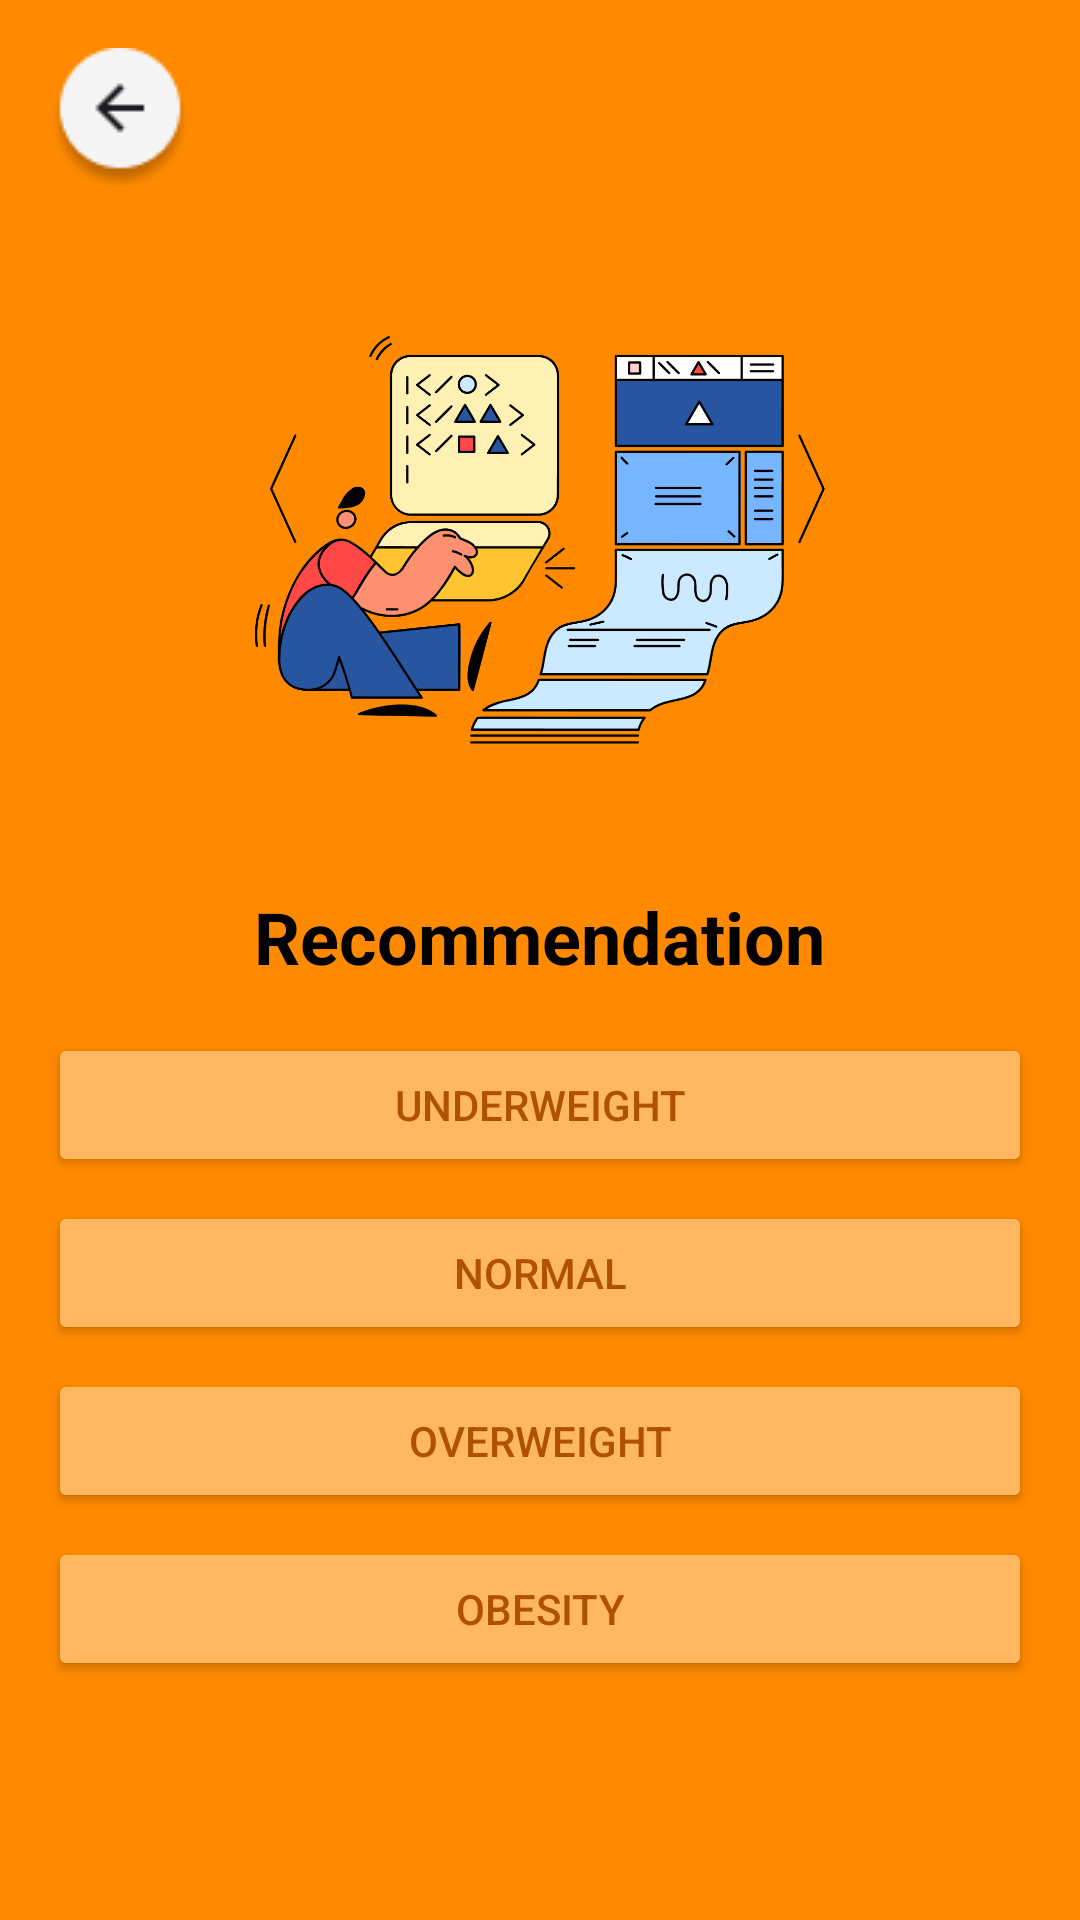

Where to tap for icons on this 1080 x 1920 app screen, as (x=x, y=y):
Back: (x=120, y=114)
